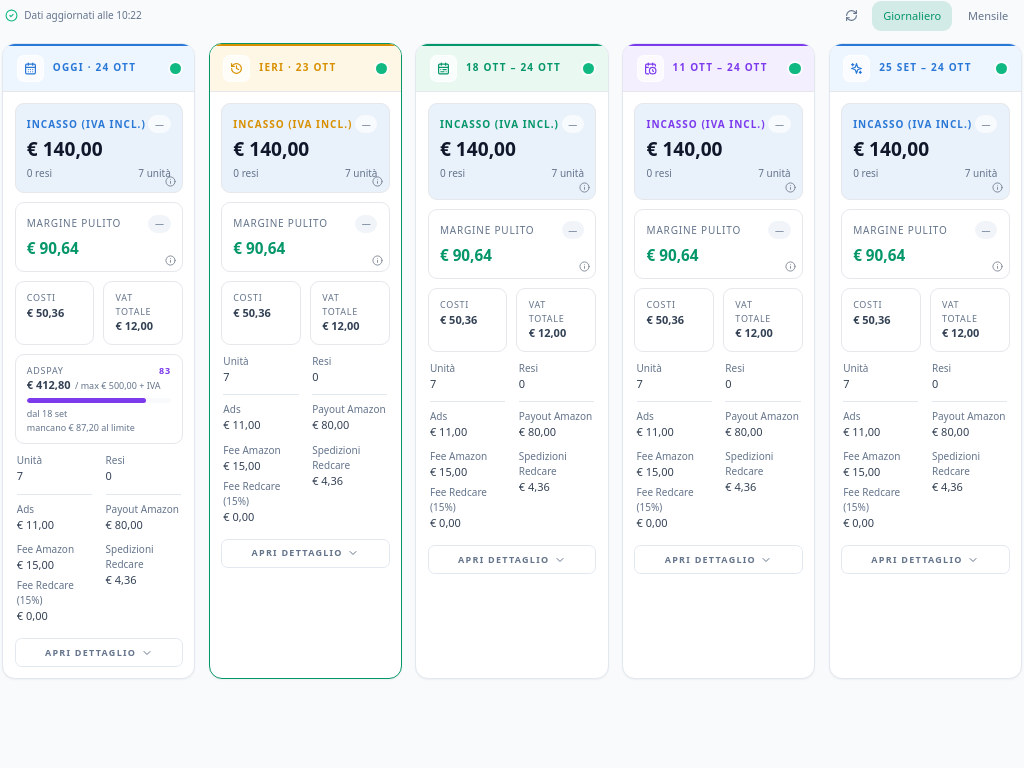
Test: PeriodTiles › includes Redcare shipping in profit, costs and the dashboard breakdown
Expected: the text "€ 90,64" is shown 5 times, [27,238,79,258]; [233,238,285,258]; [440,245,492,265]; [646,245,698,265]; [853,245,905,265]
Expected: the text "€ 50,36" is shown 5 times, [27,305,64,320]; [233,305,271,320]; [440,312,477,326]; [646,312,684,326]; [853,312,891,326]
Click the 5th button "Apri dettaglio".
click(99, 652)  # box [14,638,183,667]
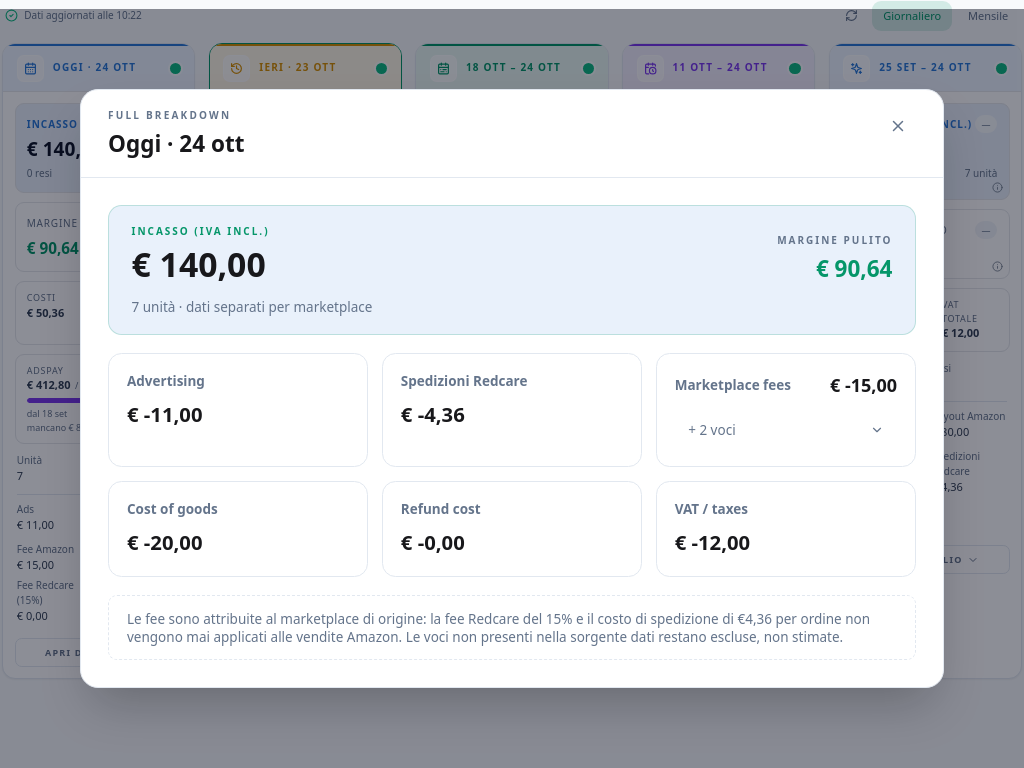
Expected: the dialog shows "Spedizioni Redcare", [401,372,527,390]
Expected: the dialog shows "€ -4,36", [401,400,465,428]
